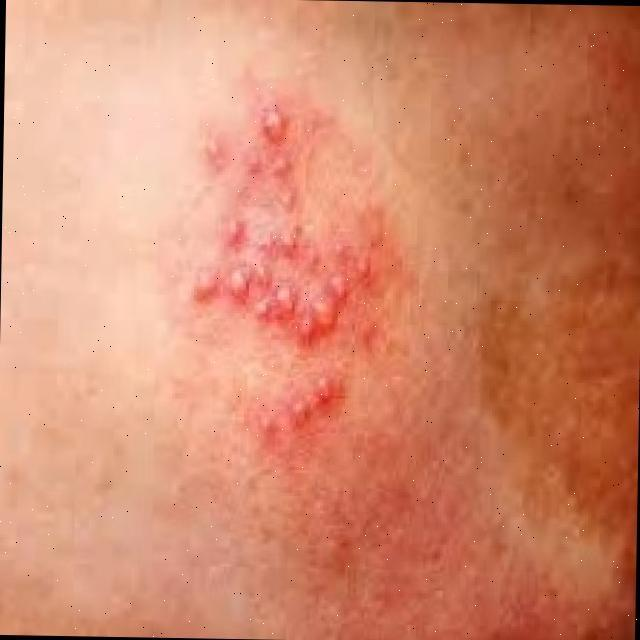Shingles: (186, 101, 378, 441)
